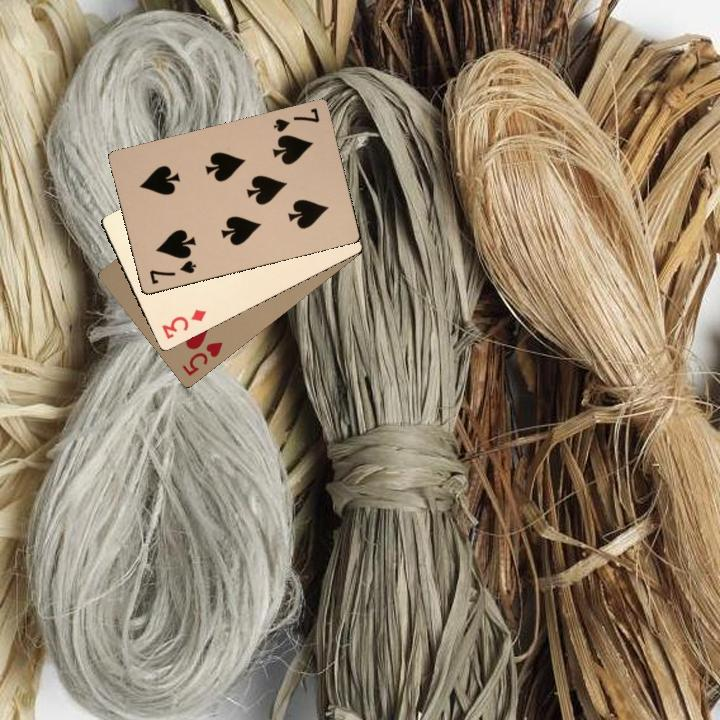3d: (158, 305, 209, 342)
5h: (178, 338, 225, 379)
7s: (145, 256, 199, 287), (269, 104, 322, 135)
